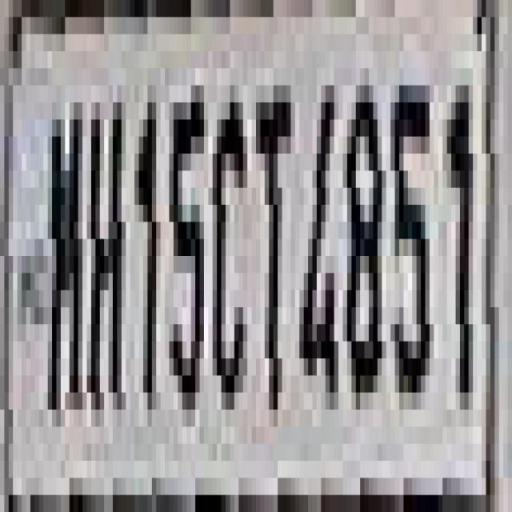number plate: (17, 0, 512, 494)
